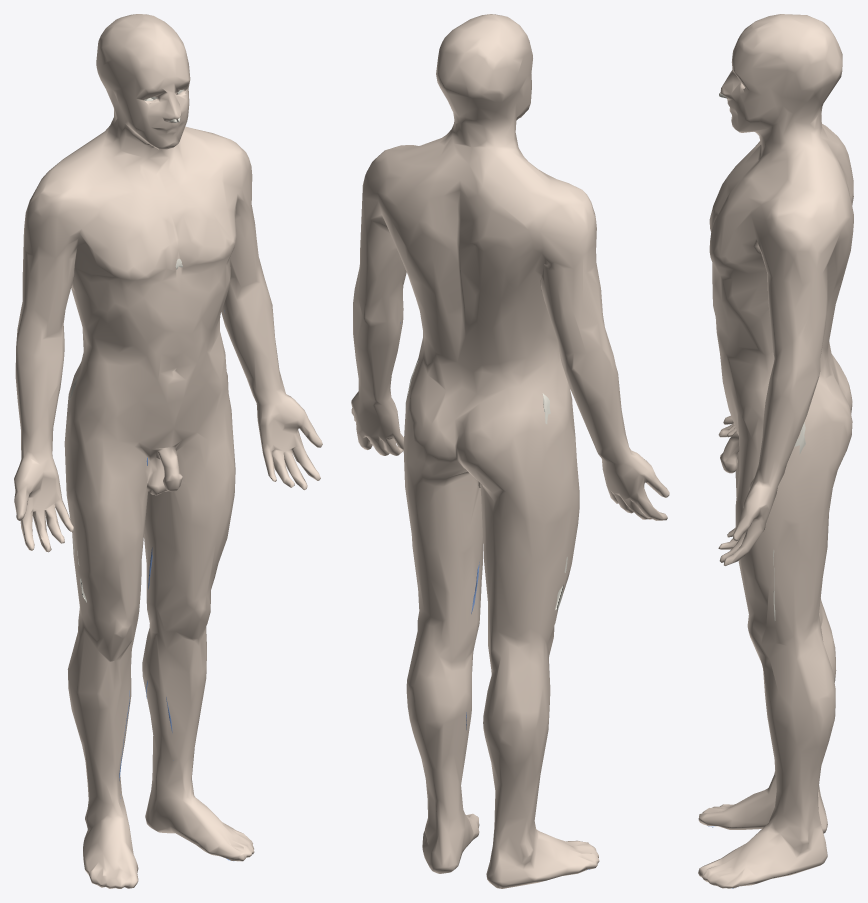
Rendered from body.glb.
3 views of the same model, side by side, from view 1: azimuth 30°, elevation 25°; view 2: azimuth 150°, elevation 25°; view 3: azimuth 270°, elevation 25° (orthographic). The views are drawn at different scales.
Visible parts, largest first — view 1: skin; view 2: skin; view 3: skin.
Boxes of the visible parts, x1=… form: skin: x1=14, y1=14, x2=322, y2=888; skin: x1=351, y1=14, x2=669, y2=888; skin: x1=698, y1=14, x2=853, y2=888.
Size of the model in its own units: 0.666 by 1.72 by 0.2913.
